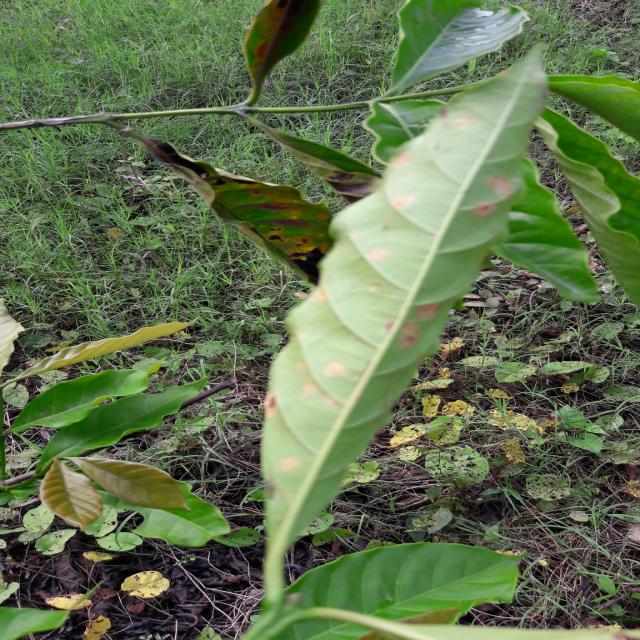Enfermedad-Roya: (255, 40, 551, 531)
